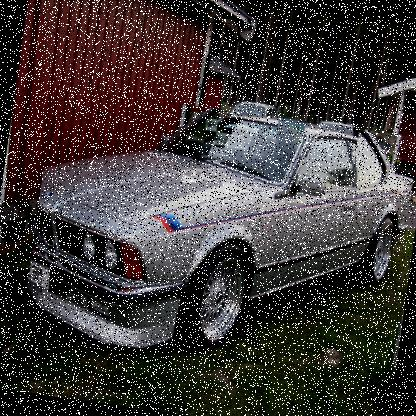Car: (19, 86, 415, 384), (213, 97, 280, 155), (300, 118, 358, 165)
